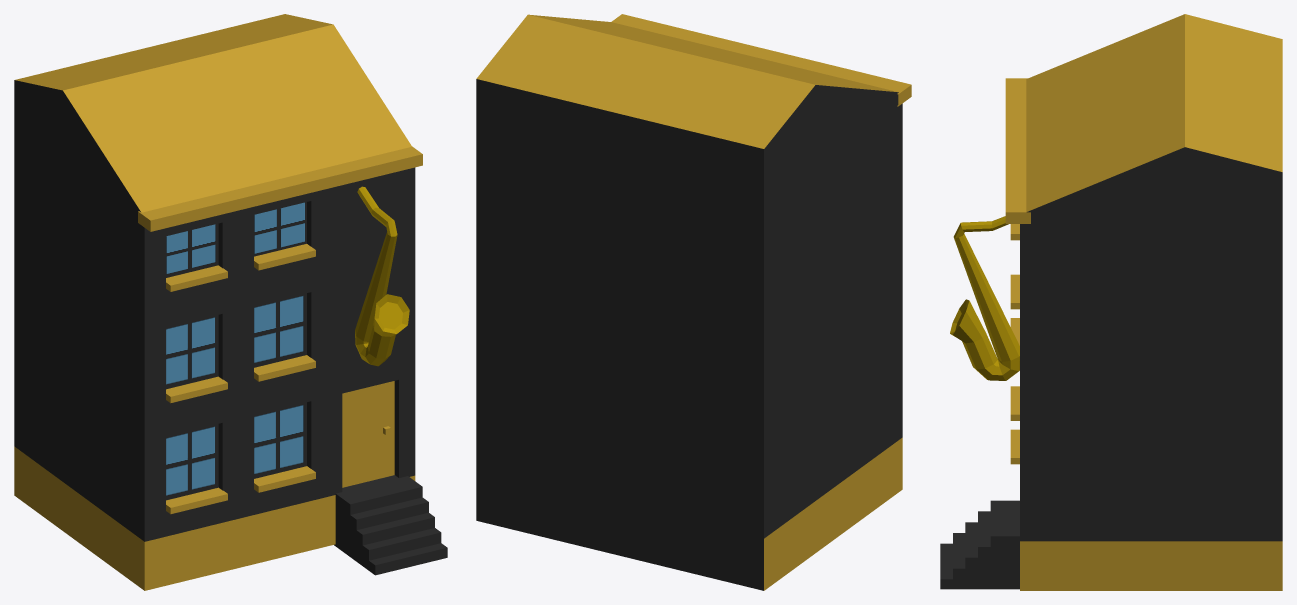
The model's file is JazzSaxophone2.obj.
3 views of the same model, side by side, from view 1: azimuth 30°, elevation 25°; view 2: azimuth 150°, elevation 25°; view 3: azimuth 270°, elevation 25° (orthographic). The views are drawn at different scales.
Visible parts, largest first — view 1: SaksofonJazzDONE.001; view 2: SaksofonJazzDONE.001; view 3: SaksofonJazzDONE.001.
Part boxes in pixels (x1,y1,x2,y2): SaksofonJazzDONE.001: [14, 14, 447, 590]; SaksofonJazzDONE.001: [476, 14, 911, 590]; SaksofonJazzDONE.001: [940, 14, 1282, 590].
Bounding box in the file's own units: 6.03 × 9.37 × 6.52.
